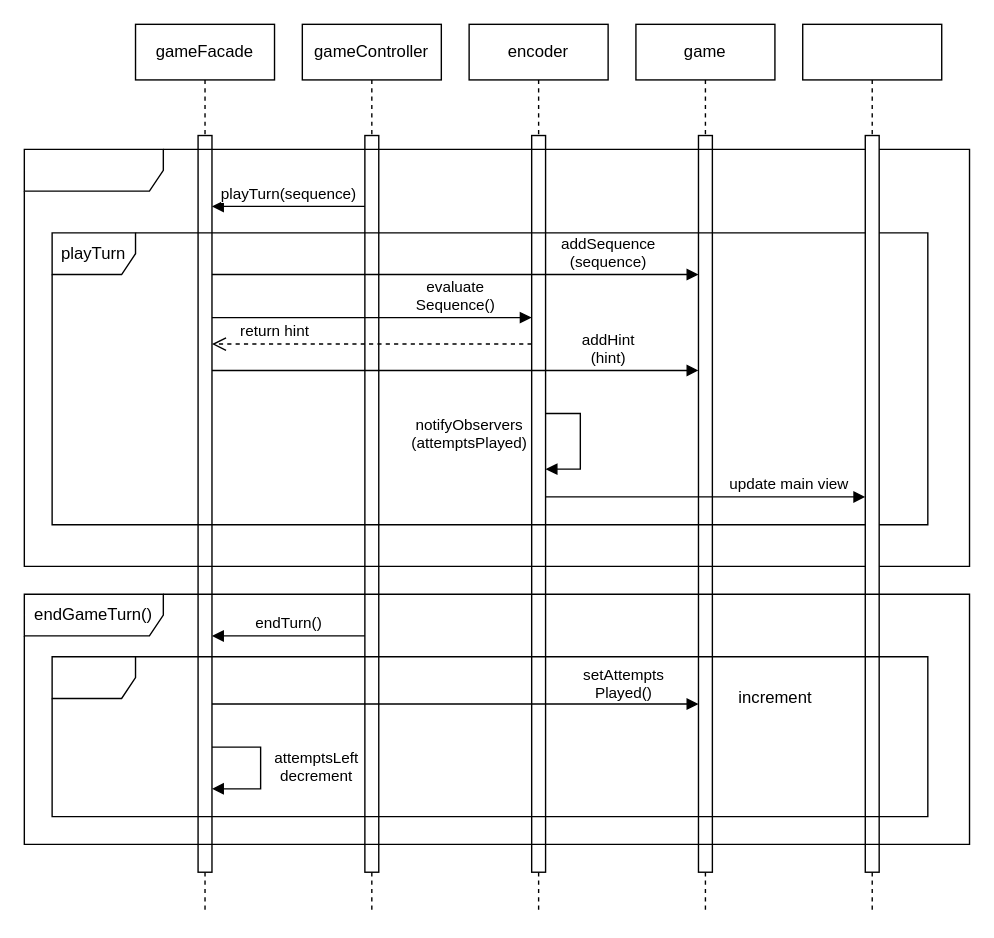
Image size: 994x938. Some labels were removed from this diagram. Here are the shapes that lost their labels. From the top down, the box of each, then its label:
(23, 148, 970, 566): startGameTurn (sequence)
(801, 23, 942, 914): viewFacade
(51, 655, 928, 817): endTurn
